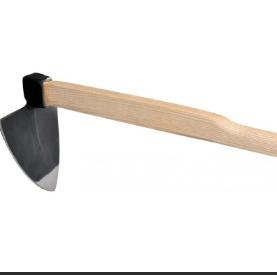HOUE: (0, 69, 277, 199)
